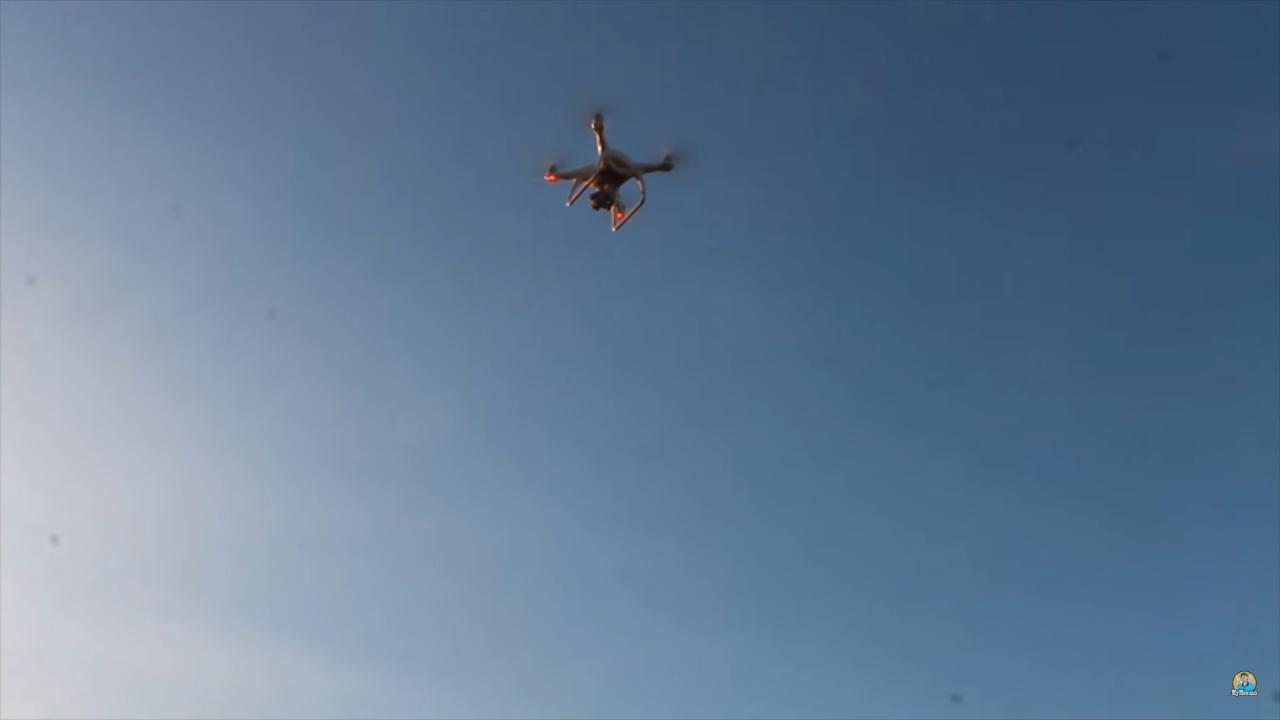Drone: (525, 96, 695, 245)
